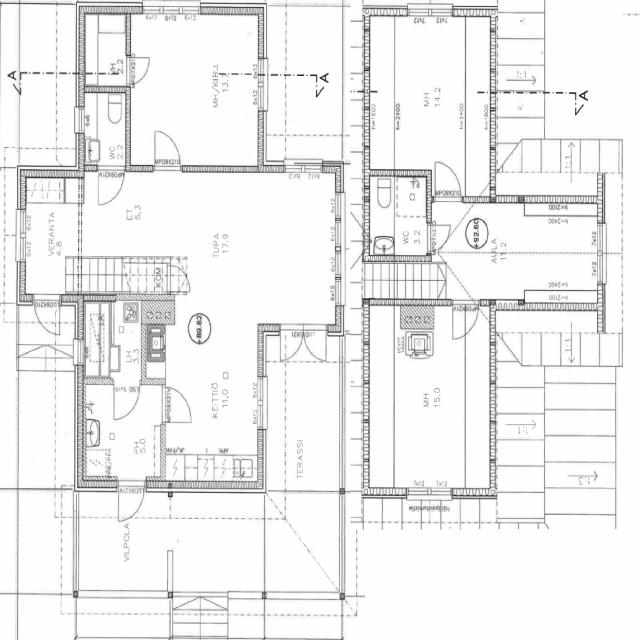door: (118, 477, 145, 527), (34, 294, 60, 340), (160, 387, 192, 422), (452, 298, 478, 340), (435, 161, 461, 202), (99, 165, 124, 206), (155, 131, 180, 172), (114, 378, 139, 419), (280, 325, 304, 366), (304, 325, 326, 366), (125, 57, 151, 84), (426, 224, 451, 250), (167, 266, 189, 291)
